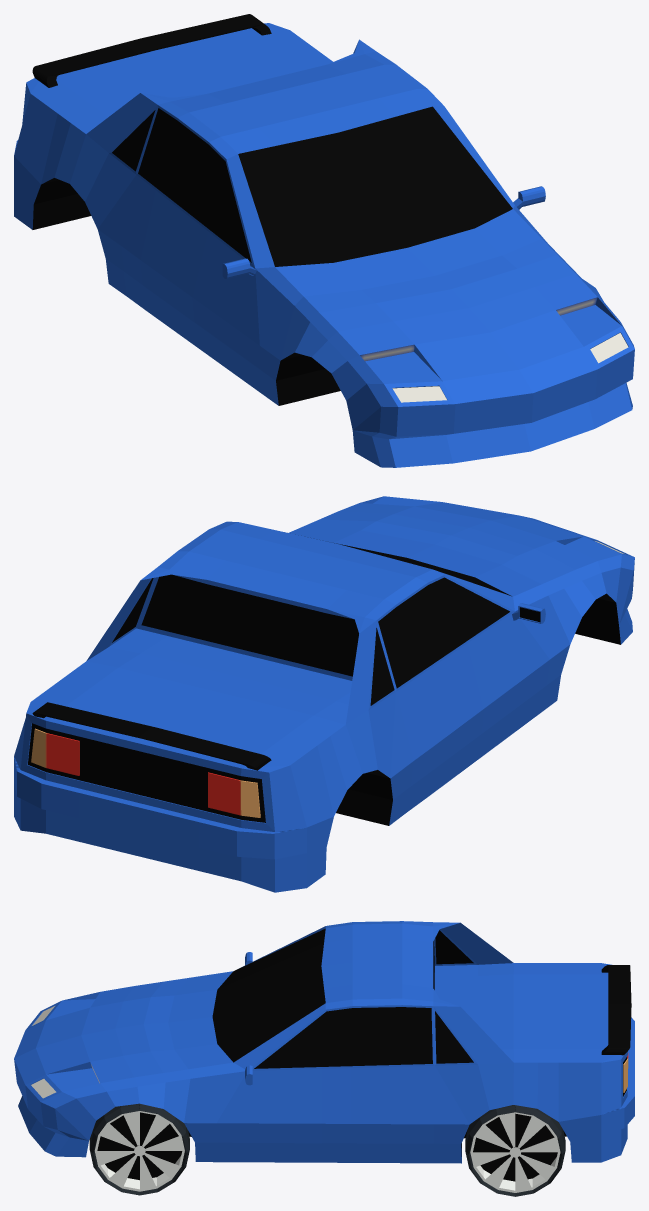
Rendered from car_turbo.glb.
The picture shows the model from 3 angles, top to bottom: view 1: azimuth 30°, elevation 25°; view 2: azimuth 150°, elevation 25°; view 3: azimuth 270°, elevation 25°; orthographic projection. The views are drawn at different scales.
Visible parts, largest first — view 1: Car, Windows, Spoiler, Mirrors; view 2: Car, Windows, Spoiler; view 3: Car, Windows, Rear_Wheels, Front_Wheels, Spoiler.
Part boxes in pixels (x1,y1,x2,y2): Car: (14,23,634,467); Windows: (112,106,512,266); Spoiler: (32,14,271,87); Mirrors: (222,186,545,278); Car: (14,496,634,892); Windows: (112,543,511,705); Spoiler: (32,702,271,770); Car: (14,921,634,1163); Windows: (212,928,473,1068); Rear_Wheels: (465,1105,565,1196); Front_Wheels: (89,1103,189,1195); Spoiler: (601,965,631,1055).
Size of the model in its own units: 0.9984 by 0.6941 by 2.14.
Materials: 2 (2 with a texture image).
